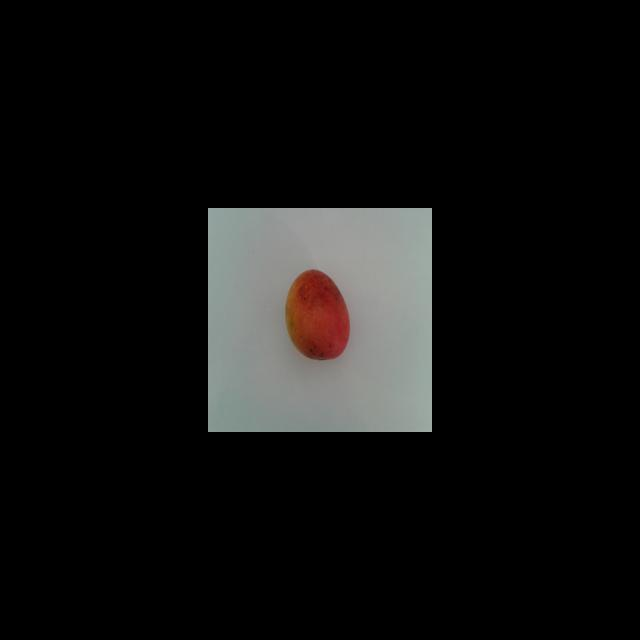Mango: (284, 268, 350, 360)
